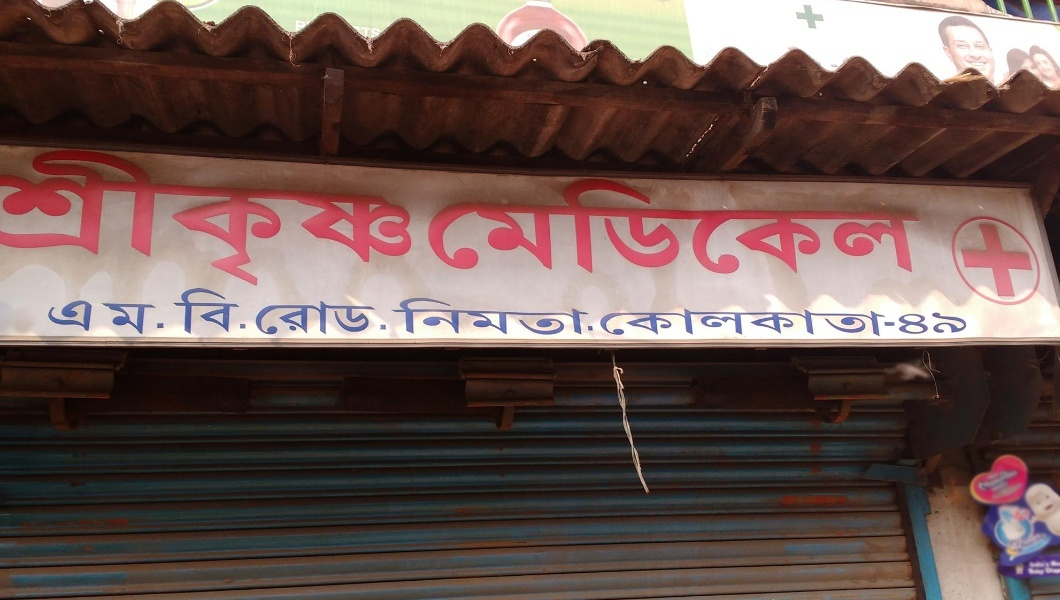text: (17, 143, 32, 289), (33, 143, 48, 289), (49, 143, 64, 289), (65, 143, 80, 289), (81, 143, 96, 289), (97, 143, 112, 289), (113, 143, 128, 289), (129, 143, 144, 289), (145, 143, 160, 289), (161, 143, 176, 289), (177, 143, 192, 289), (193, 143, 208, 289), (209, 143, 224, 289), (225, 143, 240, 289), (241, 143, 256, 289), (257, 143, 272, 289), (273, 143, 288, 289), (289, 143, 304, 289), (305, 143, 320, 289), (321, 143, 336, 289), (337, 143, 352, 289), (353, 143, 368, 289), (369, 143, 384, 289), (385, 143, 400, 289), (961, 463, 976, 596), (977, 463, 992, 596), (993, 463, 1008, 596), (1009, 463, 1024, 596), (1025, 463, 1040, 596), (1041, 463, 1056, 596), (401, 143, 414, 289), (913, 168, 929, 281), (4, 143, 16, 289), (433, 168, 448, 281), (449, 168, 464, 281), (465, 168, 480, 281), (481, 168, 496, 281), (497, 168, 512, 281), (513, 168, 528, 281), (529, 168, 544, 281), (545, 168, 560, 281), (561, 168, 576, 281), (577, 168, 592, 281), (593, 168, 608, 281), (609, 168, 624, 281), (625, 168, 640, 281), (641, 168, 656, 281), (657, 168, 672, 281), (673, 168, 688, 281), (689, 168, 704, 281), (705, 168, 720, 281), (721, 168, 736, 281), (737, 168, 752, 281), (753, 168, 768, 281), (769, 168, 784, 281), (785, 168, 800, 281), (801, 168, 816, 281), (817, 168, 832, 281), (833, 168, 848, 281), (849, 168, 864, 281), (865, 168, 880, 281), (881, 168, 896, 281), (897, 168, 912, 281), (422, 168, 432, 281), (177, 283, 192, 338), (193, 283, 208, 338), (209, 283, 224, 338), (225, 283, 240, 338), (49, 289, 64, 342), (65, 289, 80, 342), (81, 289, 96, 342), (97, 289, 112, 342), (113, 289, 128, 342), (129, 289, 144, 342), (145, 289, 160, 342), (257, 296, 272, 338), (273, 296, 288, 338), (289, 296, 304, 338), (305, 296, 320, 338), (321, 296, 336, 338), (337, 296, 352, 338), (353, 296, 368, 338), (369, 296, 384, 338), (401, 297, 416, 339), (417, 297, 432, 339), (433, 297, 448, 339), (449, 297, 464, 339), (465, 297, 480, 339), (481, 297, 496, 339), (497, 297, 512, 339), (513, 297, 528, 339), (529, 297, 544, 339), (545, 297, 560, 339), (561, 297, 576, 339), (577, 297, 592, 339), (897, 306, 912, 340), (913, 306, 928, 340), (929, 306, 944, 340), (945, 306, 960, 340), (609, 304, 624, 337), (625, 304, 640, 337), (641, 304, 656, 337), (657, 304, 672, 337), (673, 304, 688, 337), (689, 304, 704, 337), (705, 304, 720, 337), (721, 304, 736, 337), (737, 304, 752, 337), (753, 304, 768, 337), (769, 304, 784, 337), (785, 304, 800, 337), (801, 304, 816, 337), (817, 304, 832, 337), (833, 304, 848, 337), (849, 304, 864, 337), (865, 304, 880, 337), (881, 304, 896, 337), (161, 289, 168, 342), (392, 297, 400, 339), (598, 304, 608, 337), (961, 306, 970, 340), (958, 463, 960, 596), (1057, 463, 1059, 596), (241, 283, 245, 338), (44, 289, 48, 342), (385, 296, 390, 338), (593, 297, 598, 339), (174, 283, 176, 338), (897, 304, 898, 337)
